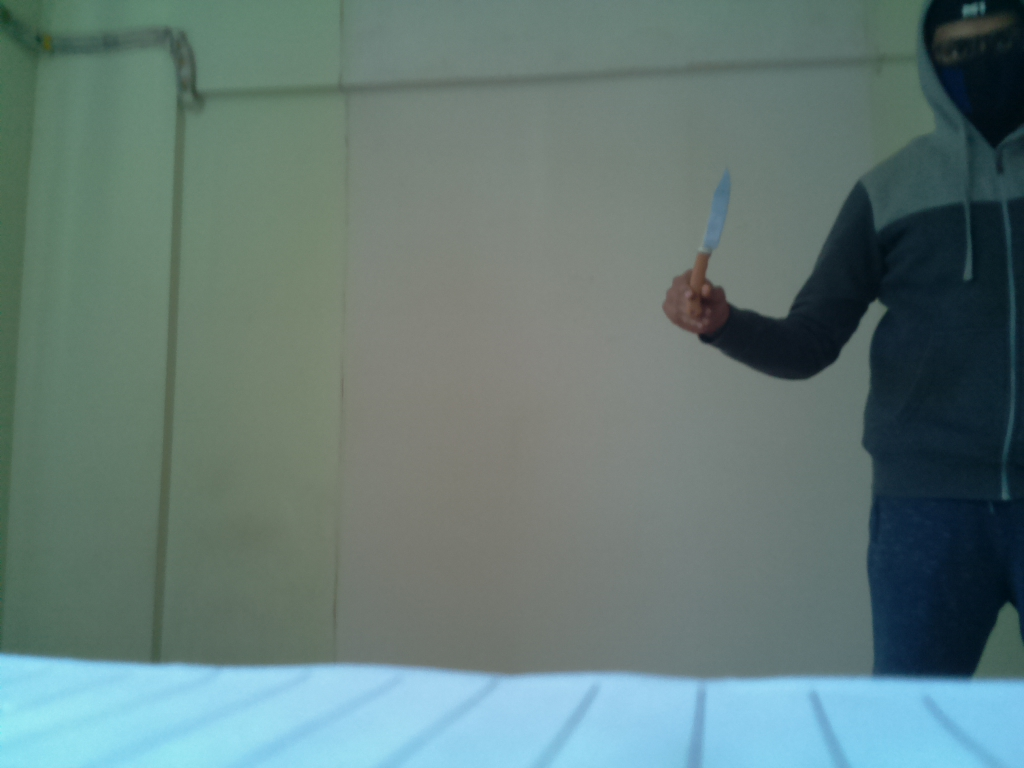knife: (692, 164, 738, 286)
